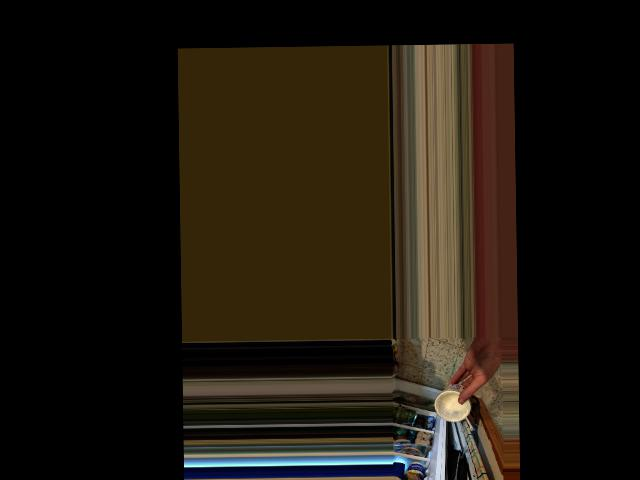cotage: (441, 383, 473, 423)
